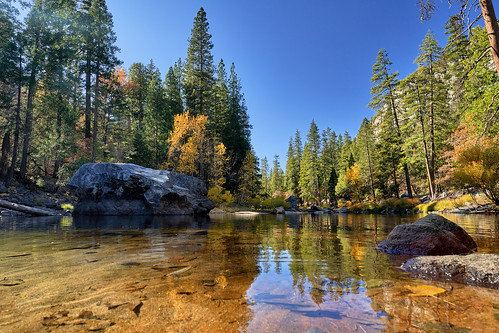river: (1, 207, 471, 333)
rocks: (50, 156, 215, 216), (378, 212, 499, 285)
sky: (216, 1, 429, 139)
tree: (1, 1, 72, 171), (448, 22, 499, 205), (65, 10, 120, 177), (179, 1, 222, 162), (367, 53, 409, 184), (411, 41, 445, 200), (97, 55, 147, 158), (213, 64, 250, 174), (281, 126, 322, 208), (143, 63, 178, 158), (316, 127, 354, 201), (350, 119, 381, 193), (254, 153, 285, 201)
